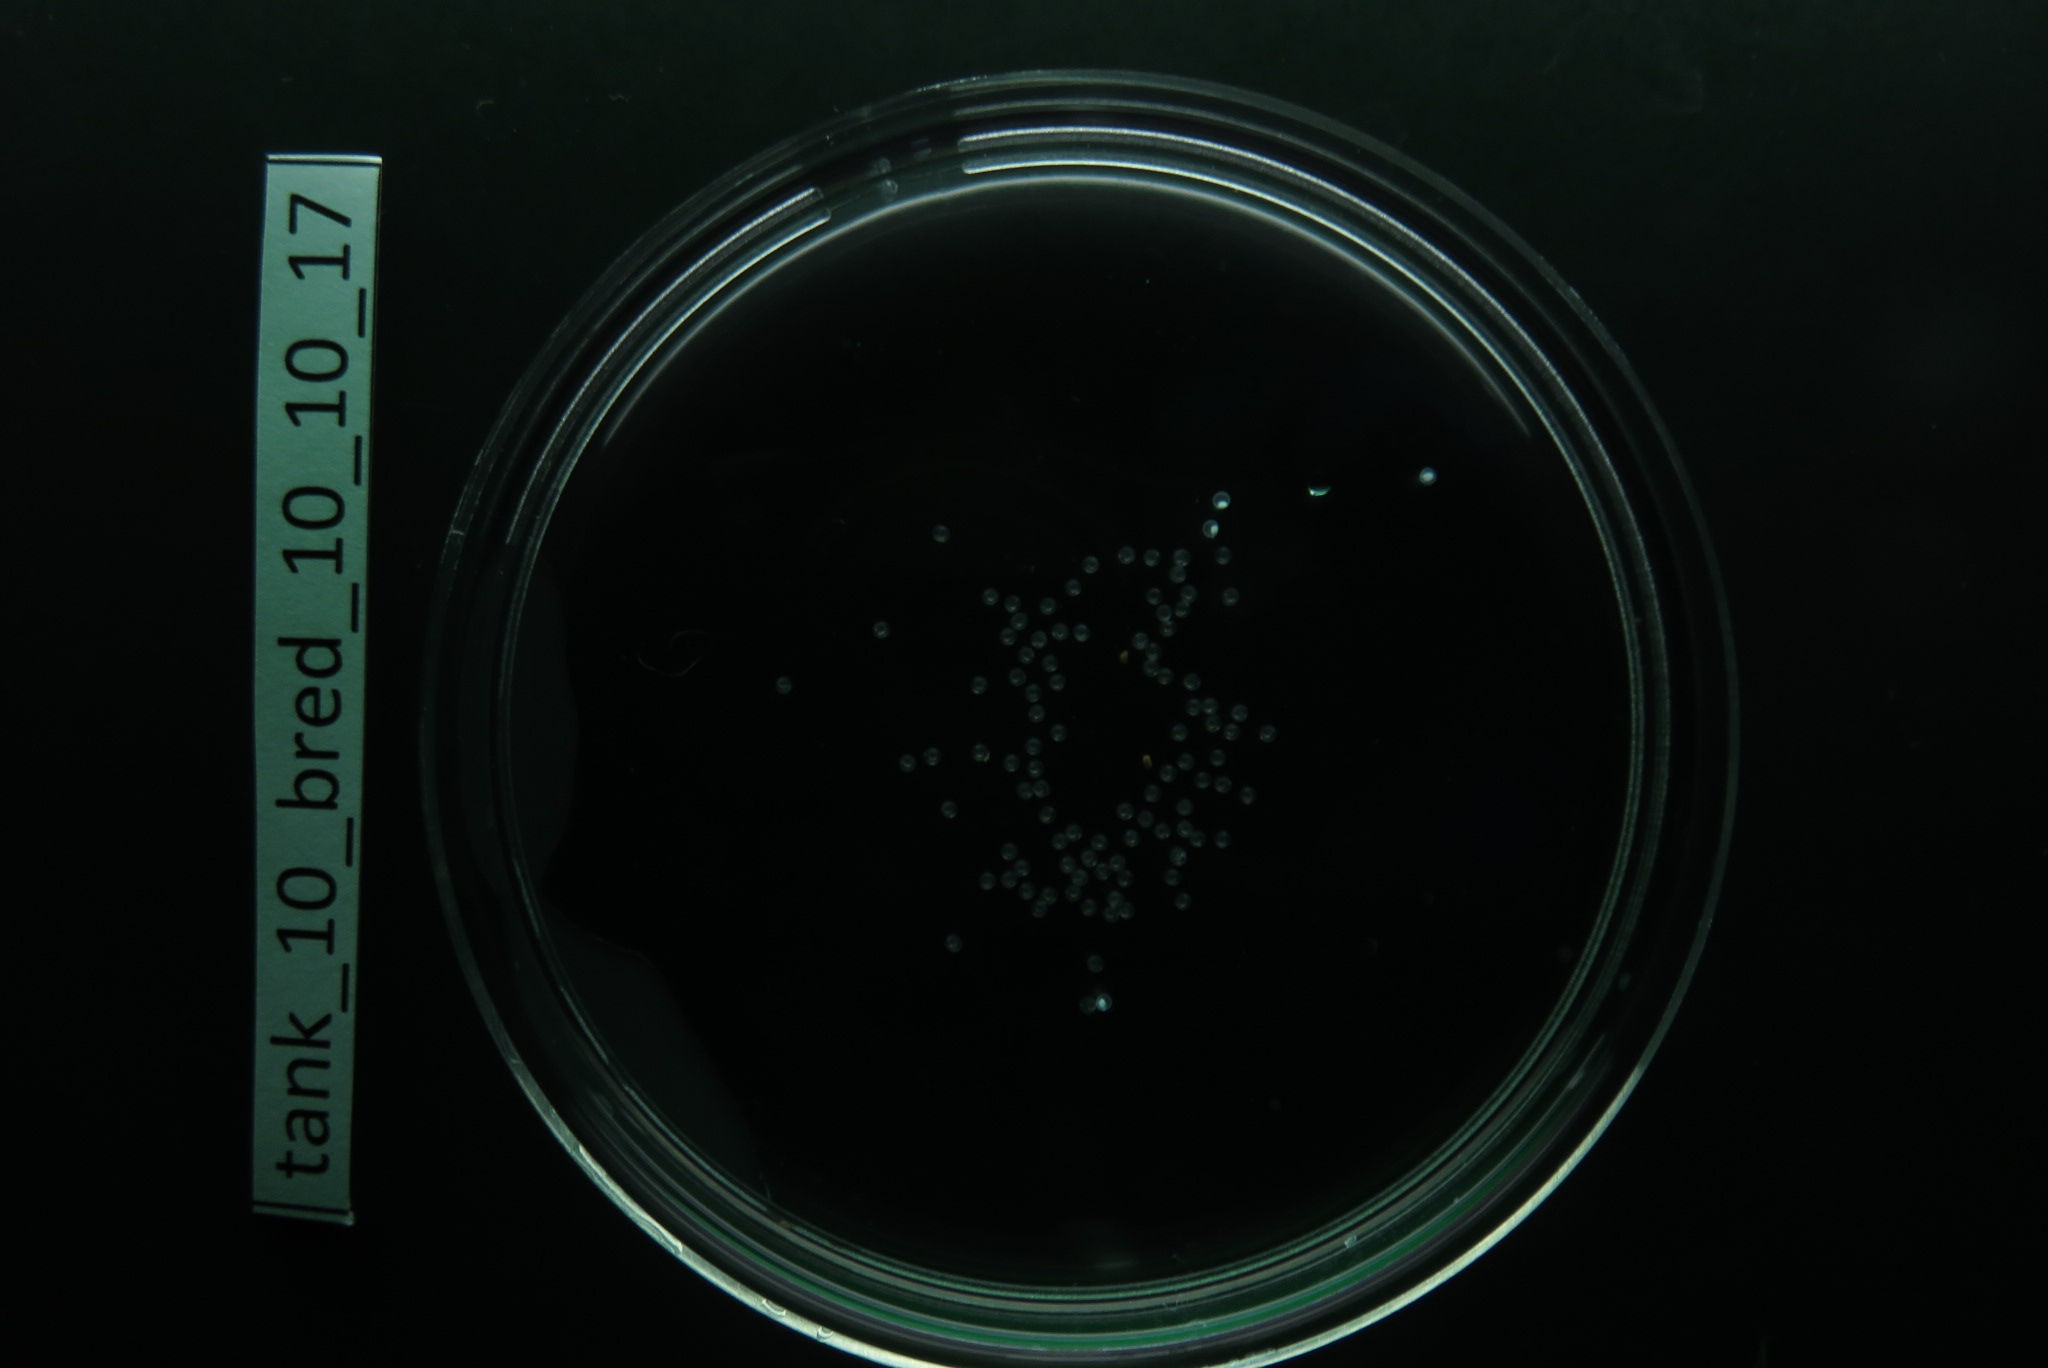bad_egg: (1213, 489, 1232, 510), (1306, 482, 1334, 496), (1201, 519, 1219, 539), (1418, 466, 1435, 486), (1096, 992, 1113, 1012)
good_egg: (771, 673, 794, 698), (1070, 621, 1090, 644), (1167, 722, 1189, 742), (1080, 553, 1099, 576), (940, 799, 958, 821), (1183, 670, 1201, 692), (932, 524, 951, 544), (871, 618, 890, 638), (968, 676, 987, 695), (981, 586, 1000, 606), (1117, 800, 1135, 820), (1038, 597, 1058, 615), (1016, 646, 1035, 664), (1161, 867, 1180, 886), (1119, 544, 1135, 563), (897, 753, 914, 773), (1257, 724, 1274, 744), (1003, 753, 1019, 773), (1000, 843, 1016, 863), (1224, 588, 1241, 606), (1216, 547, 1232, 566), (1048, 675, 1065, 692), (1050, 724, 1065, 742), (1039, 806, 1055, 824), (1215, 831, 1228, 847)
